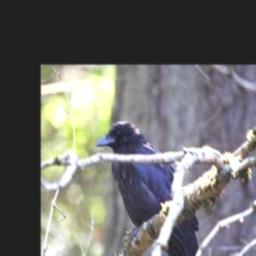Crow: (97, 120, 209, 256)
